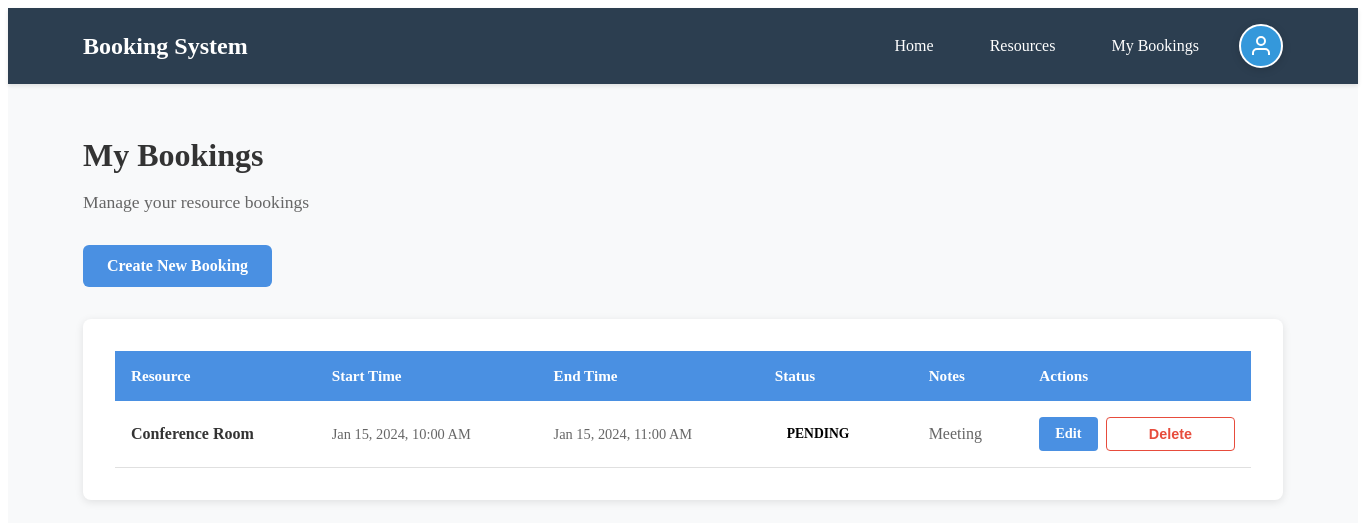
Scenario: BookingsPage › Delete Booking Functionality › disables delete button while deletion is in progress
Expected: the text "Conference Room" is shown, [115,401,316,468]
Click the button with aria-label "delete booking for conference room". click: {"x": 1170, "y": 434}
box: [1106,417,1235,451]
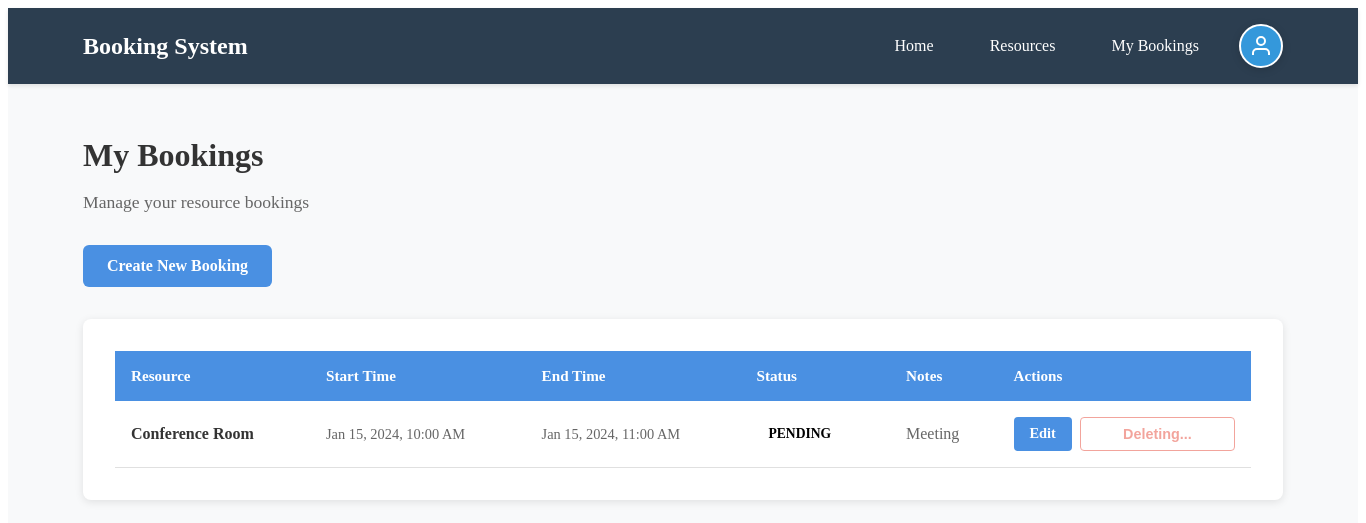
Now the button "Deleting..." is disabled, box [1080,417,1235,451]
